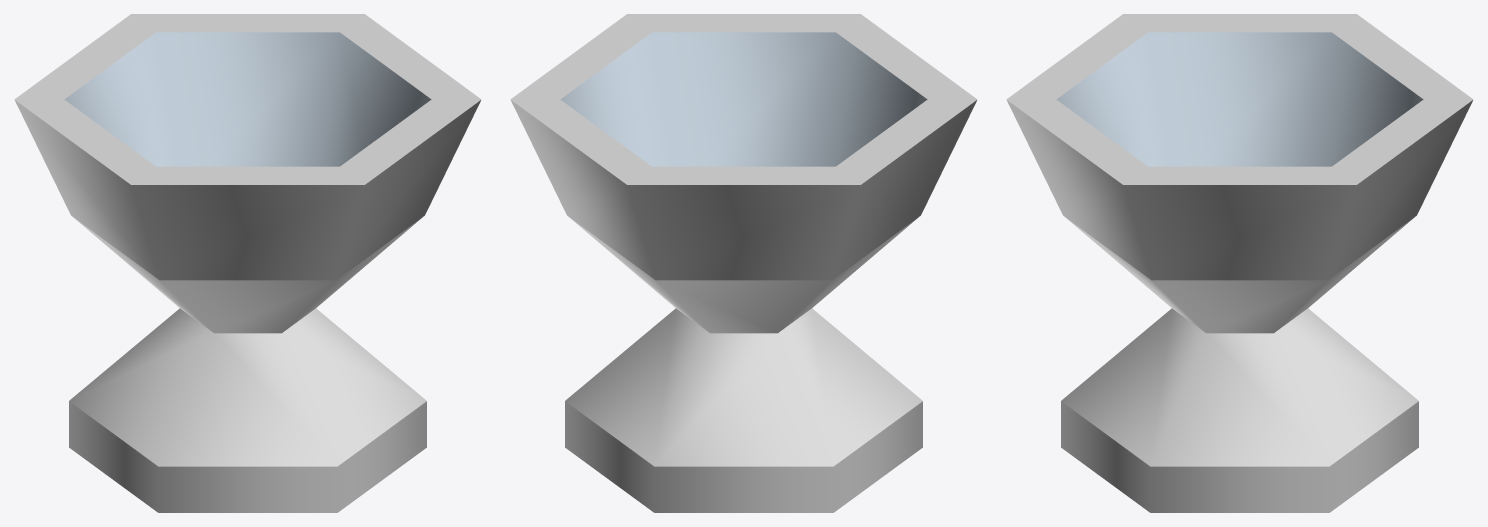
File: eggCup.GLB
3 views of the same model, side by side, from view 1: azimuth 30°, elevation 25°; view 2: azimuth 150°, elevation 25°; view 3: azimuth 270°, elevation 25° (orthographic).
Parts seen in each view (by area): view 1: eggCup; view 2: eggCup; view 3: eggCup.
Part boxes in pixels (x1,y1,x2,y2): eggCup: (14,14,481,512); eggCup: (510,14,977,512); eggCup: (1006,14,1473,512).
Bounding box in the file's own units: 0.1581 × 0.15 × 0.1826.
